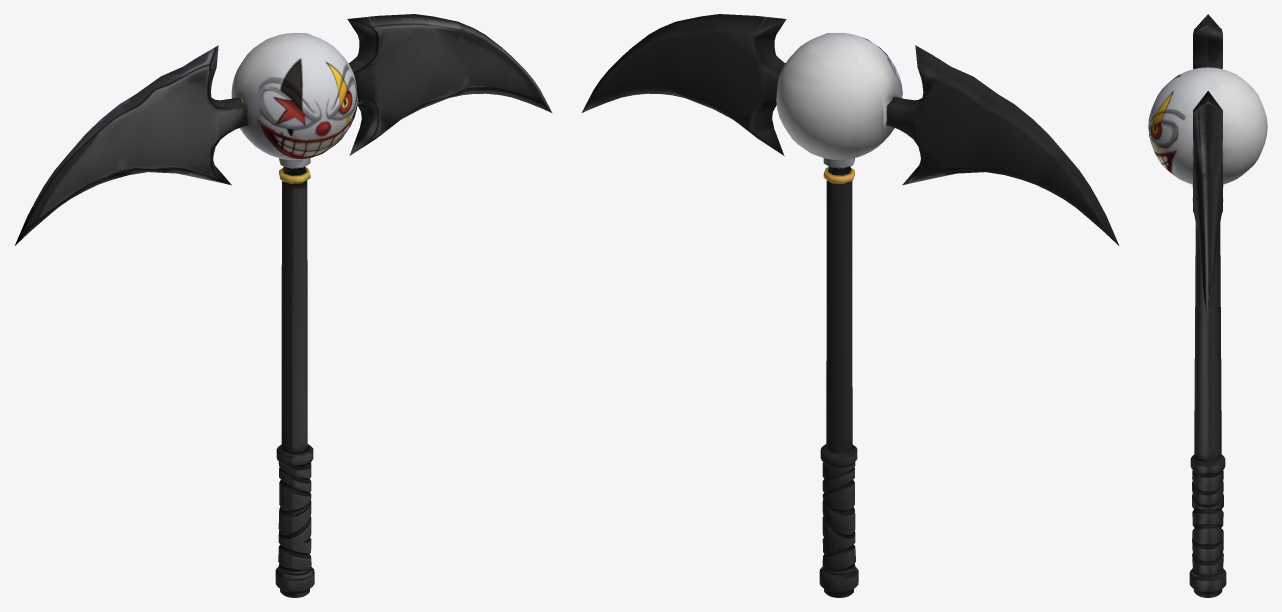
The model's file is WPN_SCYTHE_PLAYER.glb.
3 views of the same model, side by side, from view 1: azimuth 30°, elevation 25°; view 2: azimuth 150°, elevation 25°; view 3: azimuth 270°, elevation 25° (orthographic). The views are drawn at different scales.
Visible parts, largest first — view 1: Mesh_0; view 2: Mesh_0; view 3: Mesh_0.
Boxes of the visible parts, left/top/right/bottom form: Mesh_0: left=15, top=14, right=552, bottom=597; Mesh_0: left=581, top=14, right=1119, bottom=597; Mesh_0: left=1148, top=14, right=1267, bottom=597.
Bounding box in the file's own units: 0.9951 × 1 × 0.2037.
1 material, 1 textured.
